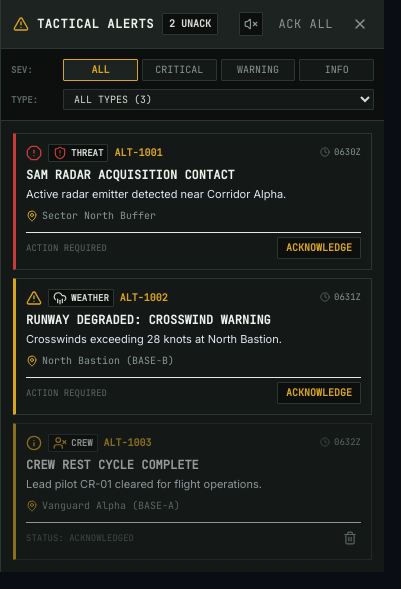
Stage 9: AlertsDrawer & Alerts Store › filters alerts by severity (critical, warning, info)
This screenshot has width=401, height=589.
# Click "CRITICAL" filter button
Click the button "critical": coordinates (179, 70) [142,59,217,81]
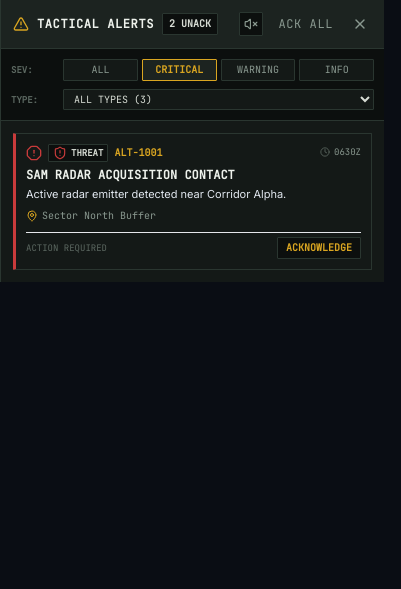
Expected: the heading "SAM Radar Acquisition Contact" is shown, [26,167,235,183]
Expected: the heading "Runway Degraded: Crosswind Warning" is gone
Expected: the heading "Crew Rest Cycle Complete" is gone
# Click "ALL" filter button
Click the button "all": coordinates (100, 70) [63,59,138,81]
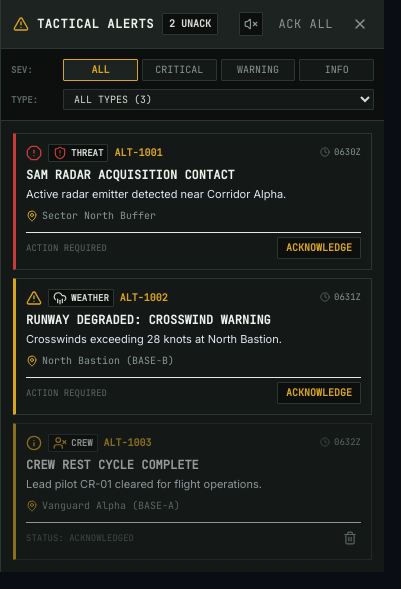
Expected: the heading "SAM Radar Acquisition Contact" is shown, [26,167,235,183]
Expected: the heading "Runway Degraded: Crosswind Warning" is shown, [26,312,271,328]
